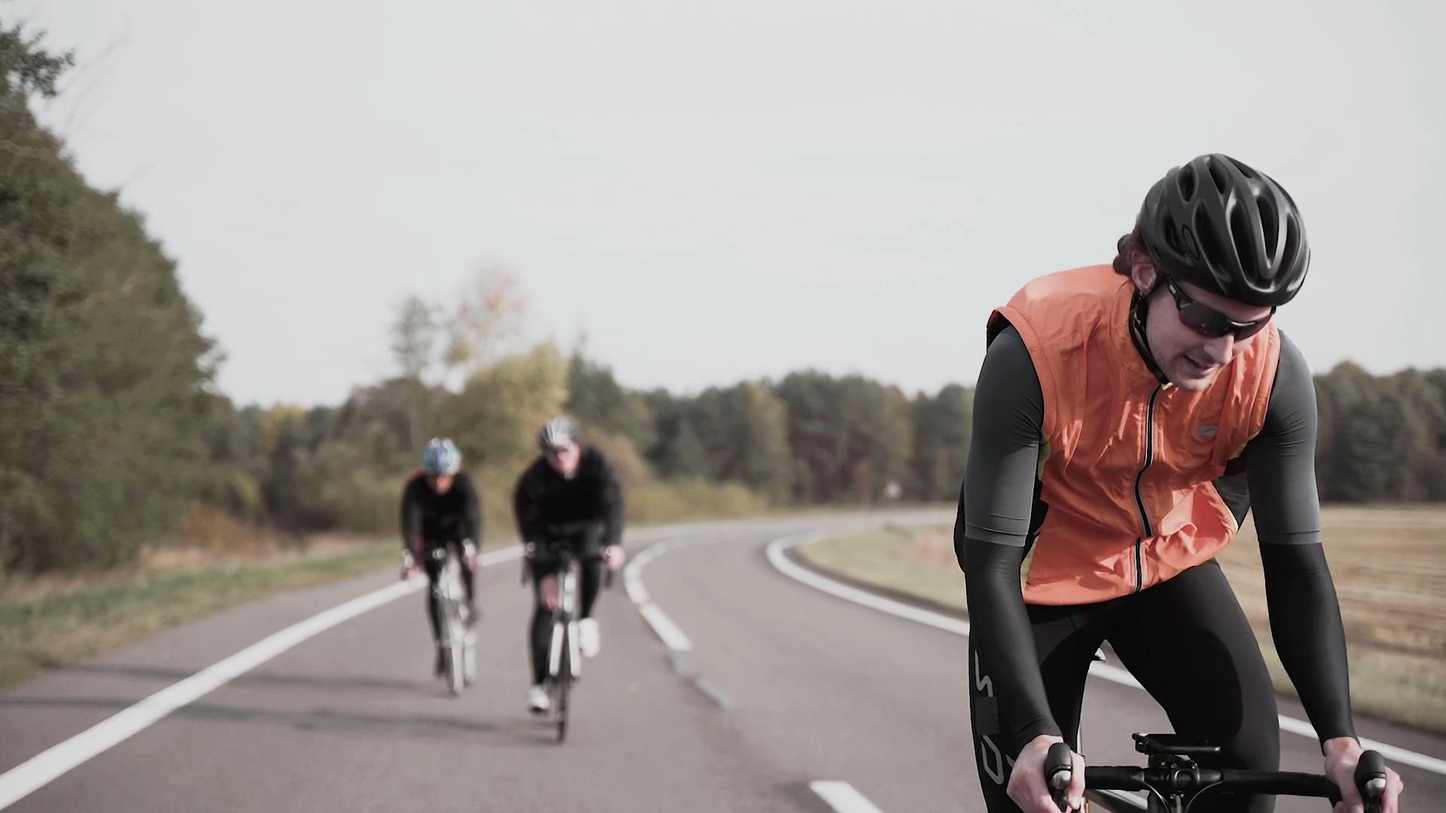bicyclist: (955, 149, 1405, 813)
helmet: (1113, 151, 1310, 394)
